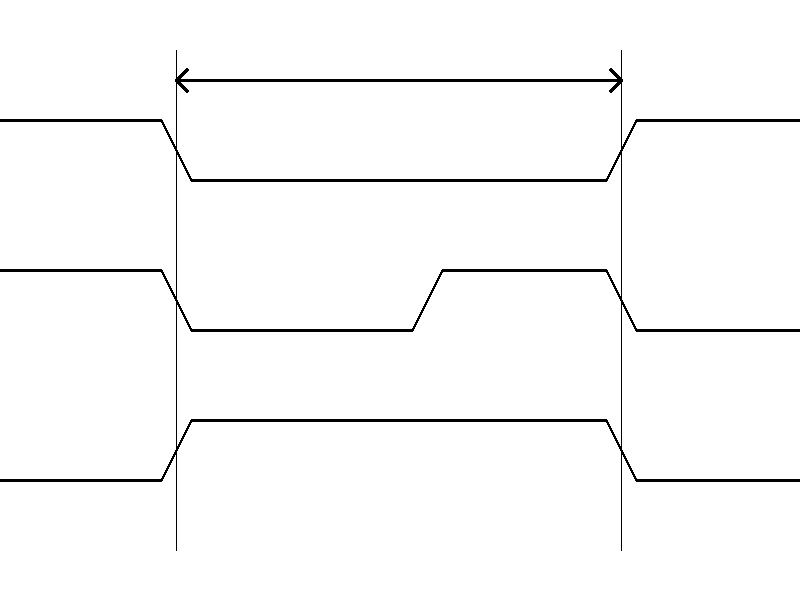double_arrow: (176, 65, 621, 95)
